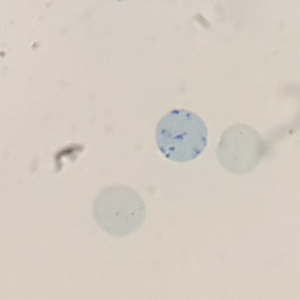aggregate reticulocyte: (154, 108, 210, 163)
erythrocyte: (214, 122, 267, 176)
punctate reticulocyte: (91, 184, 148, 239)
